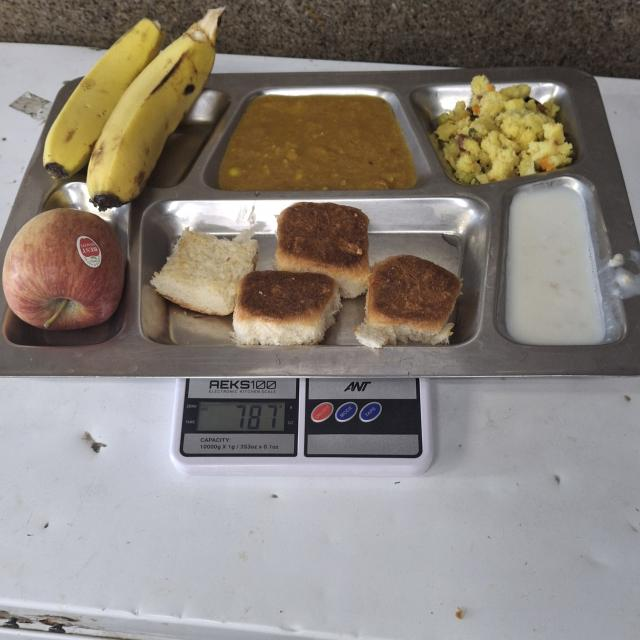Apple: (8, 214, 129, 342)
Banana: (43, 7, 218, 212)
Bhaji: (220, 95, 421, 199)
Bread: (156, 206, 467, 352)
Porridge: (510, 192, 611, 347)
Upma: (432, 81, 577, 180)
